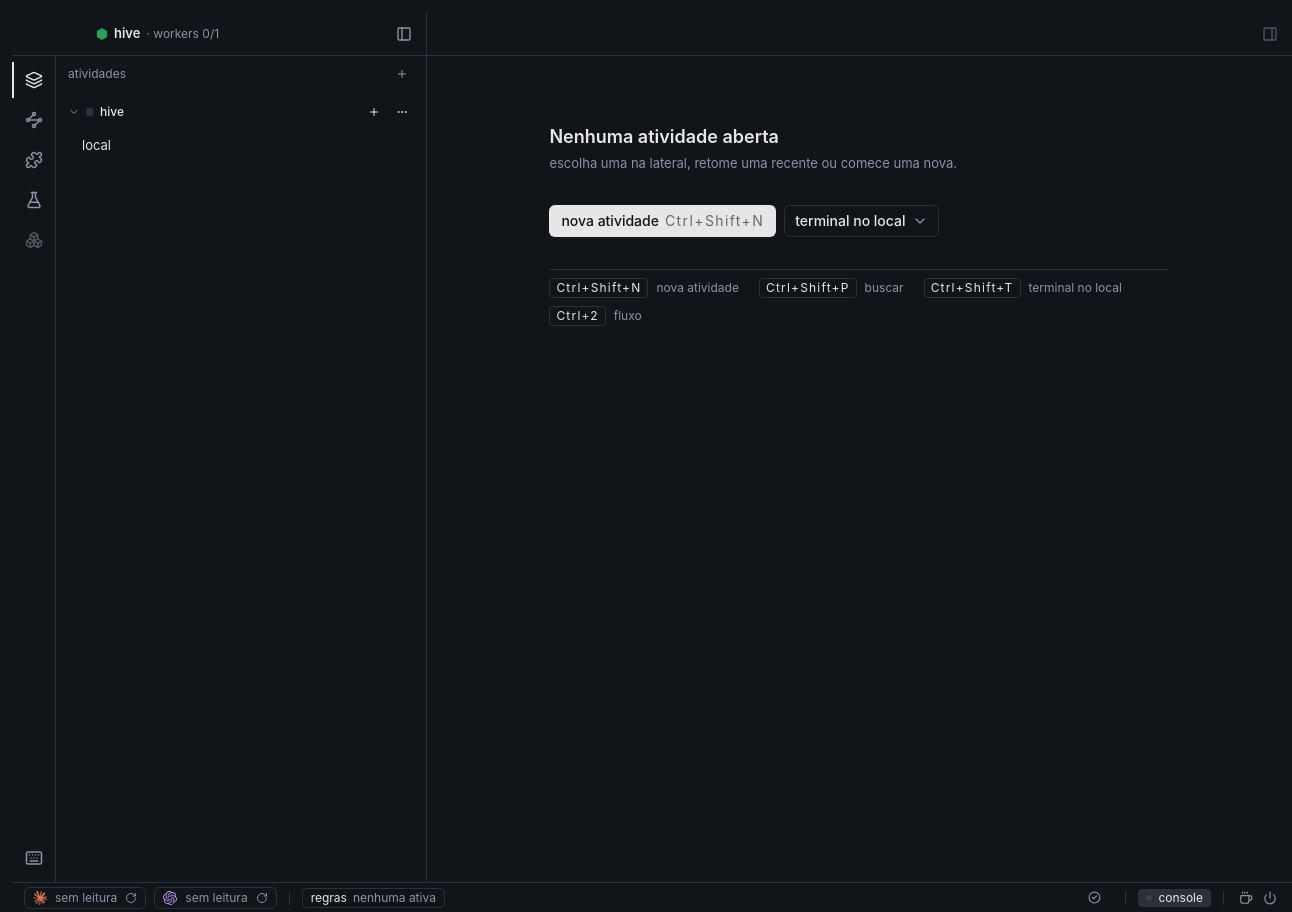
Test: a stack part of a listed repository opens its page; one of a repository the Hive does not list opens GitHub (#758)
Click the button named "fluxo".
click(34, 120)  # box [12, 102, 56, 138]
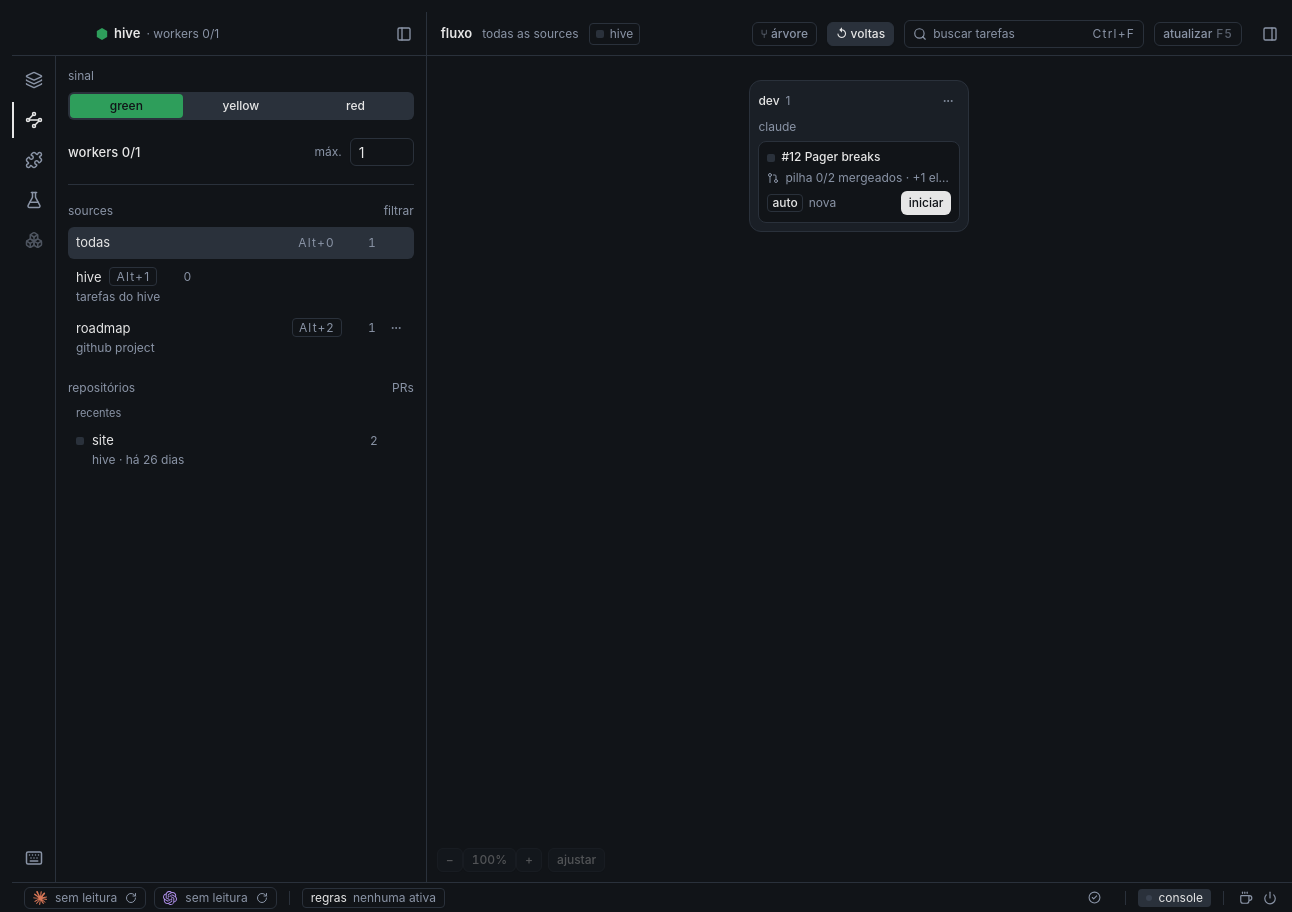
Click the button "site 2 hive · há 26 dias".
click(138, 459)  # box [68, 425, 414, 474]
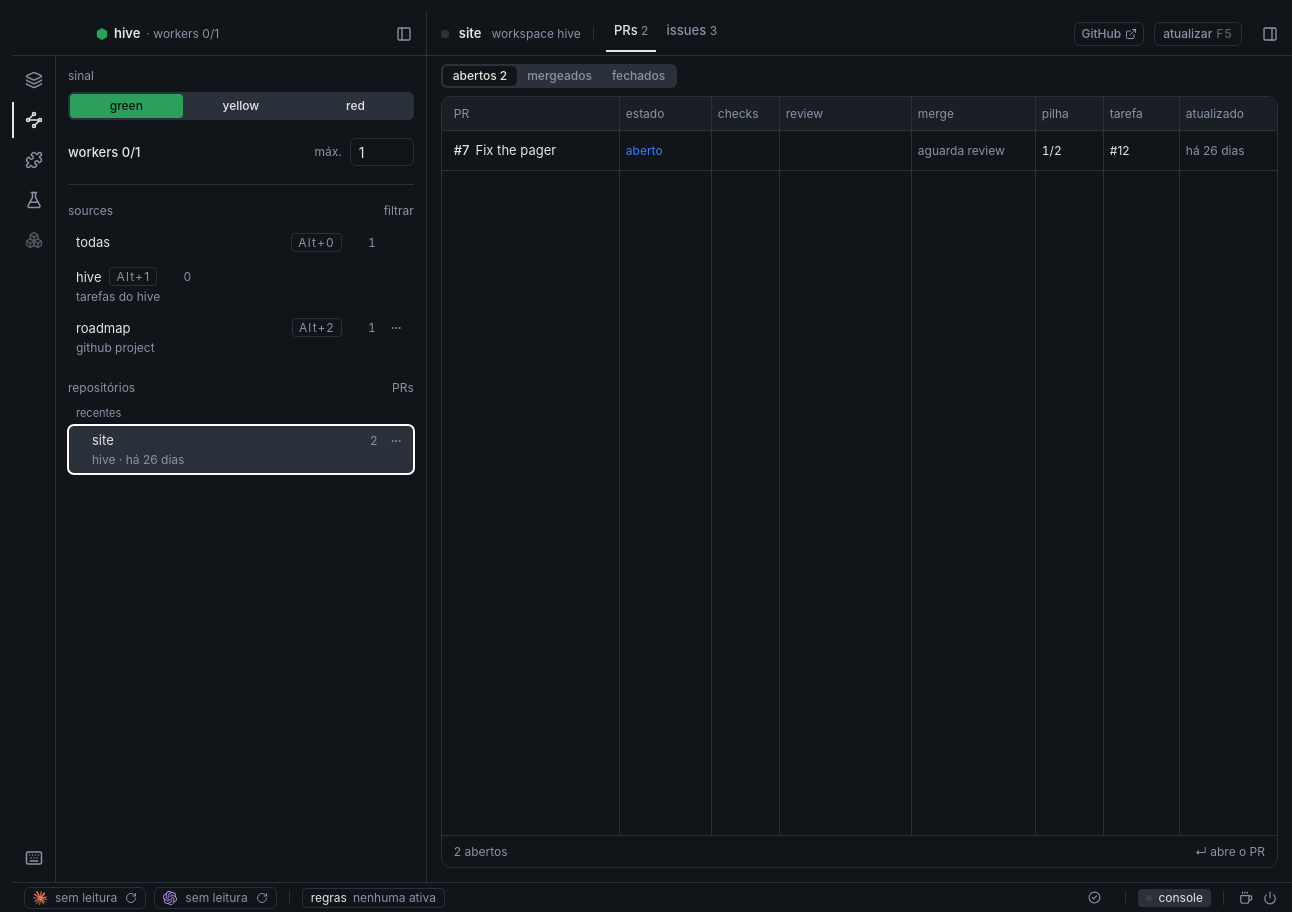
Click the text "Fix the pager".
click(516, 150)  # box [476, 141, 556, 160]
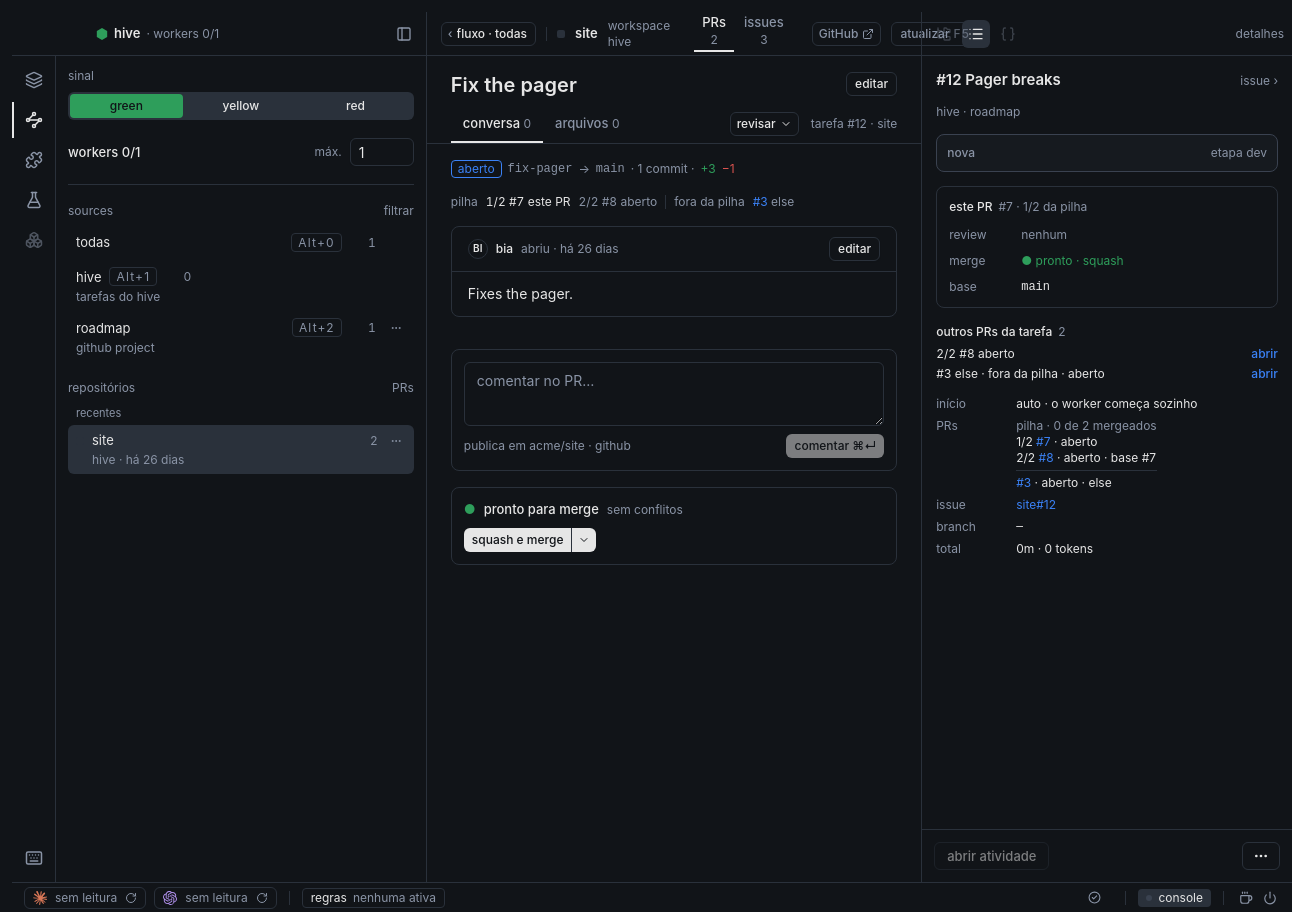
Click the button "#3 else".
click(773, 202)  # box [753, 194, 794, 210]
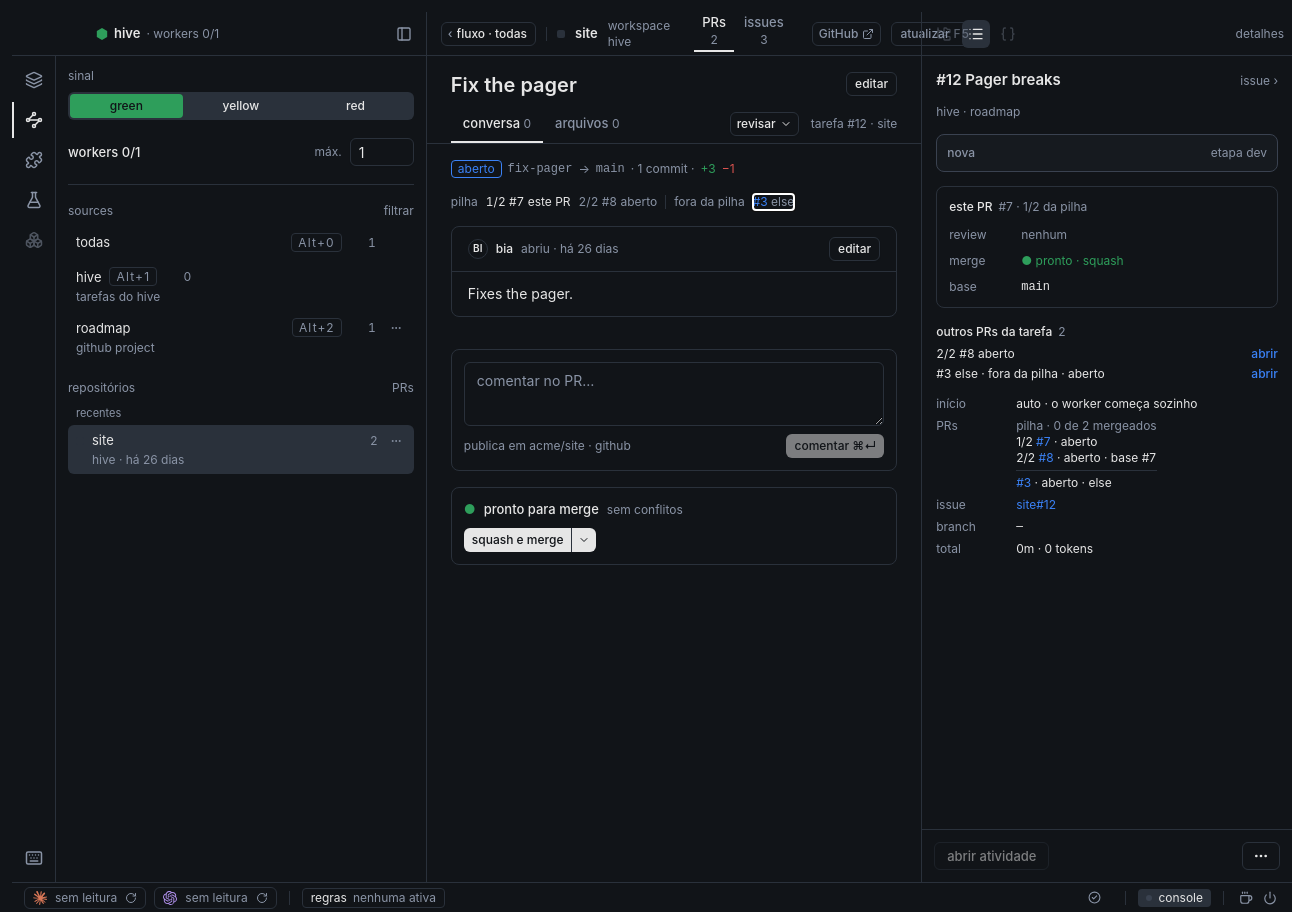
Click the button "2/2 #8 aberto".
click(618, 202)  # box [579, 194, 657, 210]
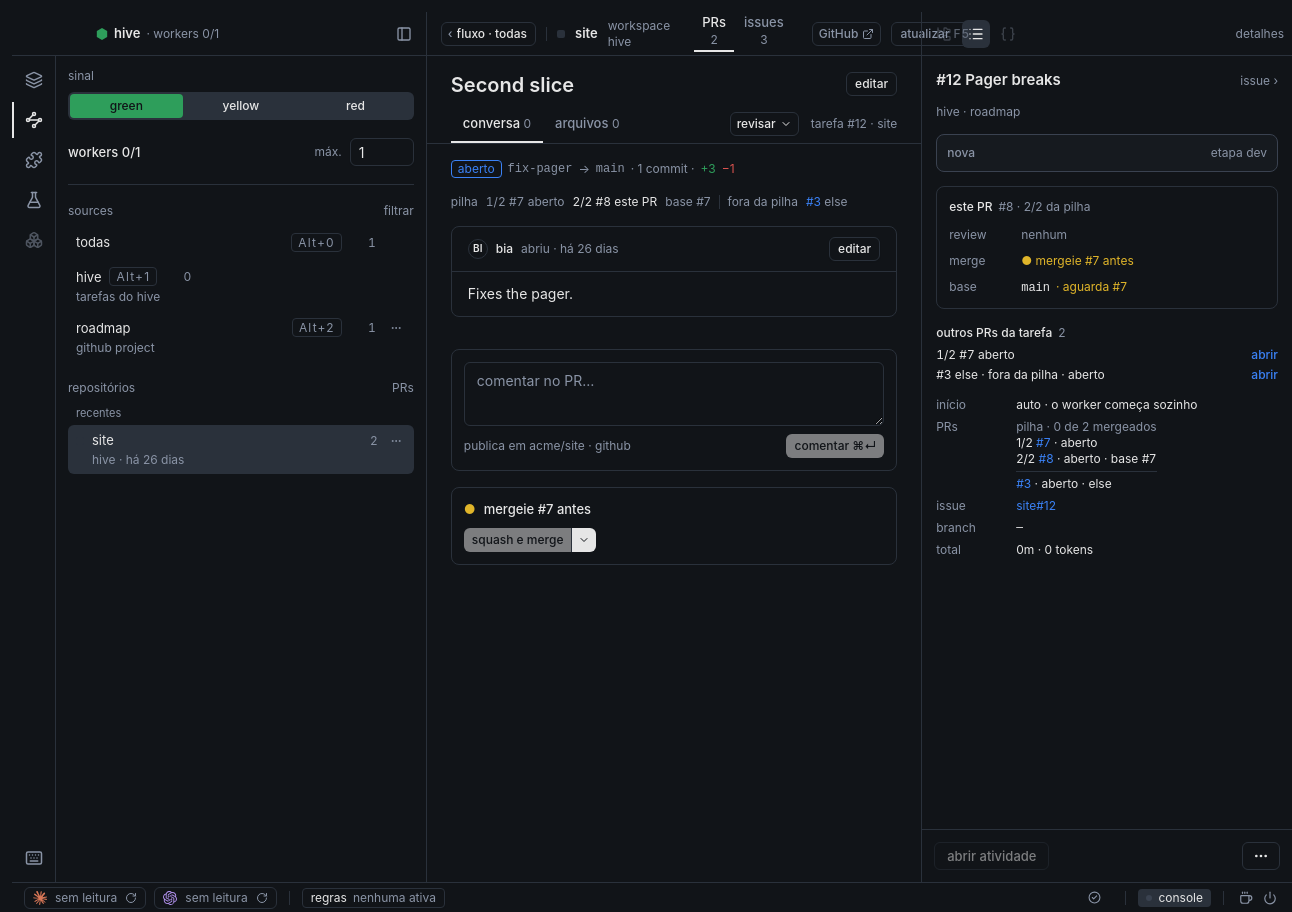
Expected: the heading "Second slice" is shown, [451, 73, 574, 97]
